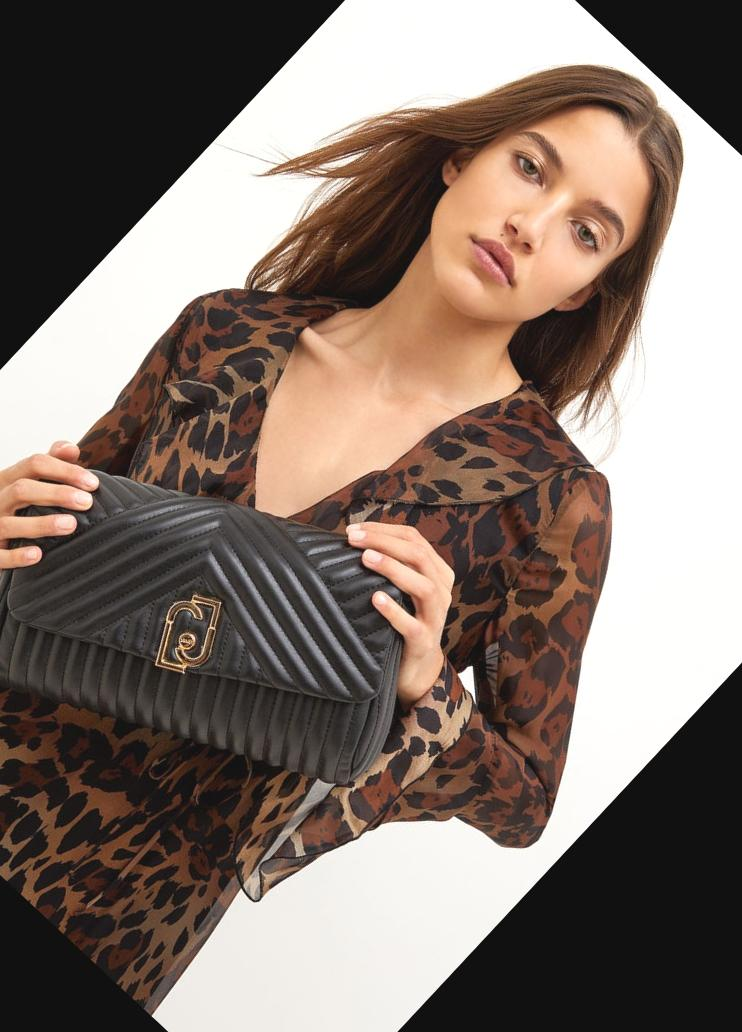LIU-JO: (133, 578, 243, 690)
